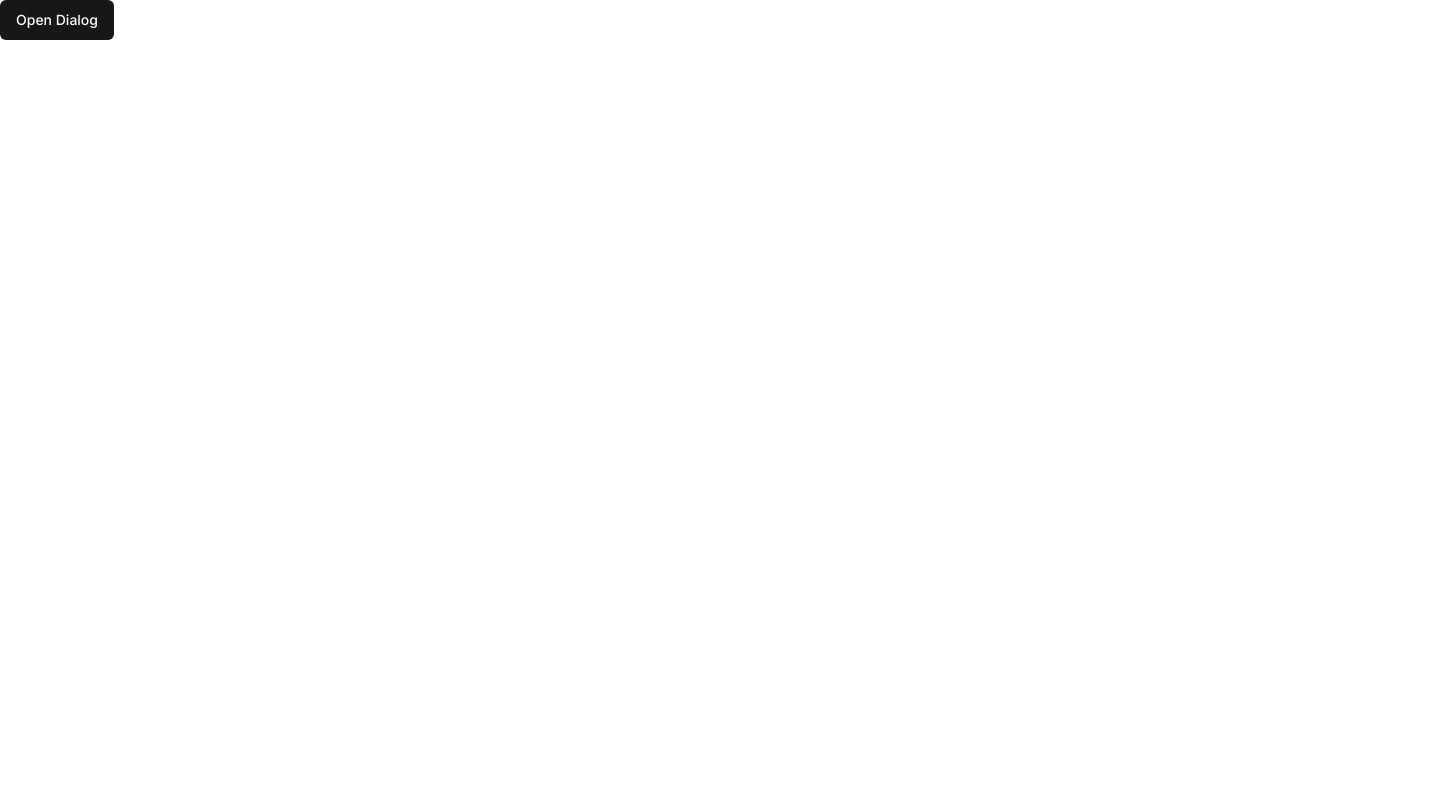
Test: Dialog › opens when trigger is clicked
The image size is (1440, 810).
Expected: the text "Test Dialog" is not shown
// Click the trigger button
Click the button "Open Dialog".
click(57, 20)  # box [0, 0, 114, 40]
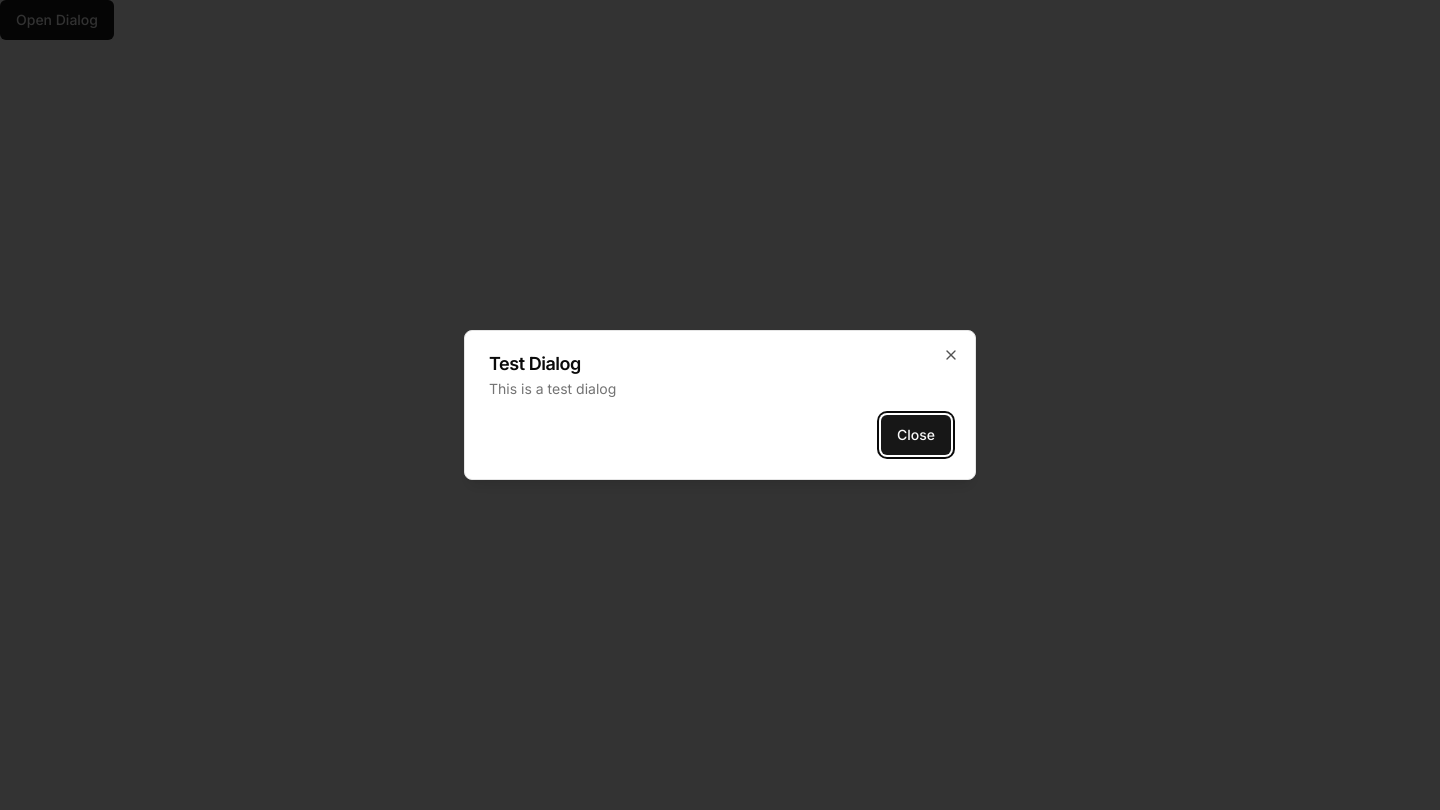
Expected: the heading "Test Dialog" is shown, [489, 353, 581, 374]
Expected: the text "This is a test dialog" is shown, [489, 380, 616, 397]
